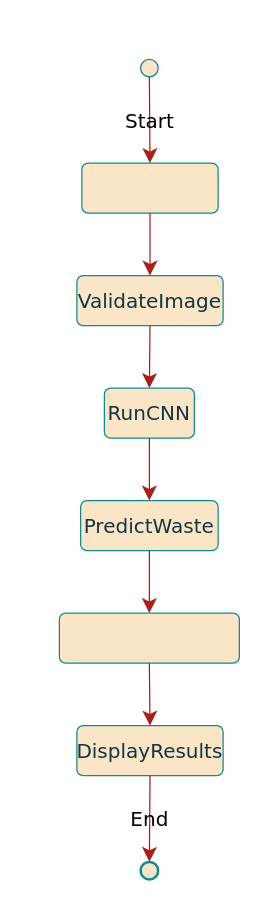
Some shapes in this 261 by 901 pixel diagram are drawn without their labels. Each missing label, with the centre of its shape:
"RunRandomForest" belongs at (x=148, y=637).
"UploadImage" belongs at (x=149, y=187).
